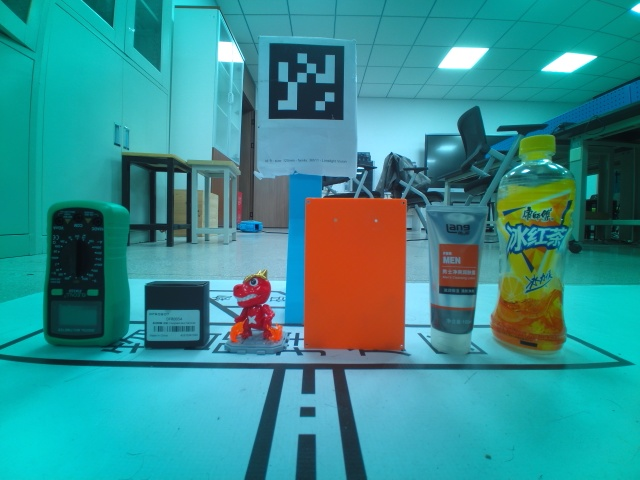banzi: (143, 279, 211, 350)
binghongcha: (224, 270, 290, 355)
dabao: (423, 203, 488, 357)
dianbiao: (491, 134, 575, 359)
hezi: (42, 199, 132, 347)
long: (302, 196, 406, 350)
